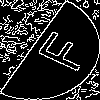F: (25, 25, 95, 74)
